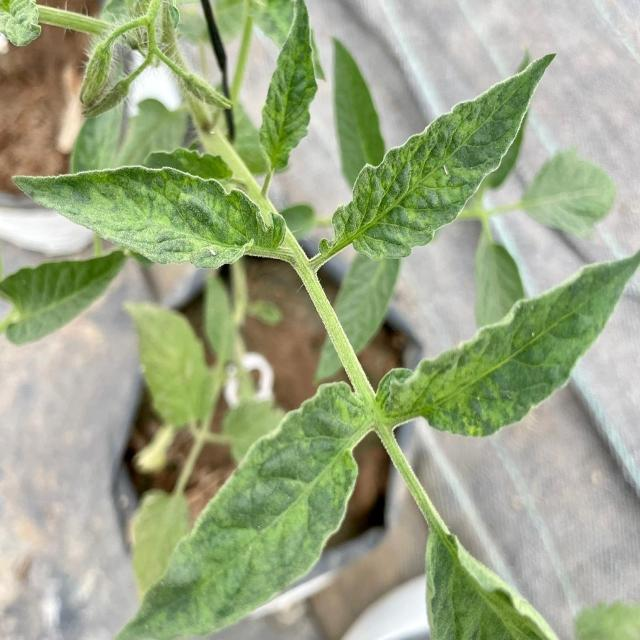T_Fl_R: (81, 41, 114, 107), (184, 73, 232, 110)
T_L_R: (121, 383, 372, 639), (317, 56, 555, 265), (379, 253, 640, 437), (17, 167, 286, 269), (427, 524, 557, 639), (261, 1, 319, 174)
T_S_R: (287, 234, 451, 536)
